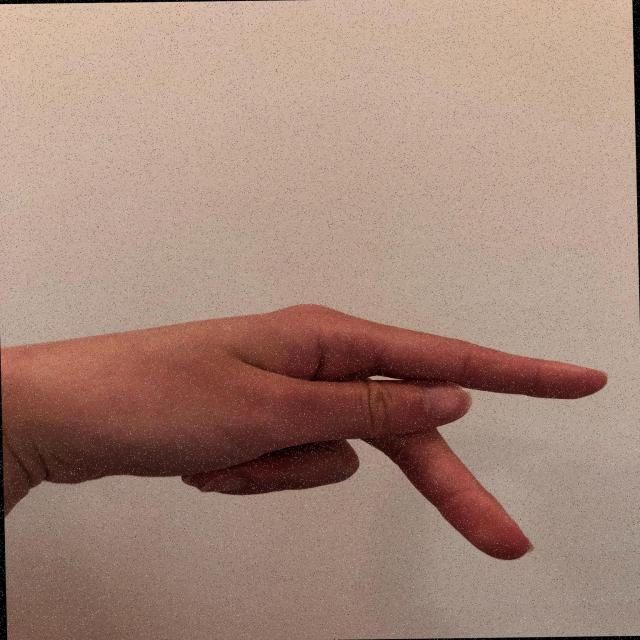P: (0, 292, 625, 578)
